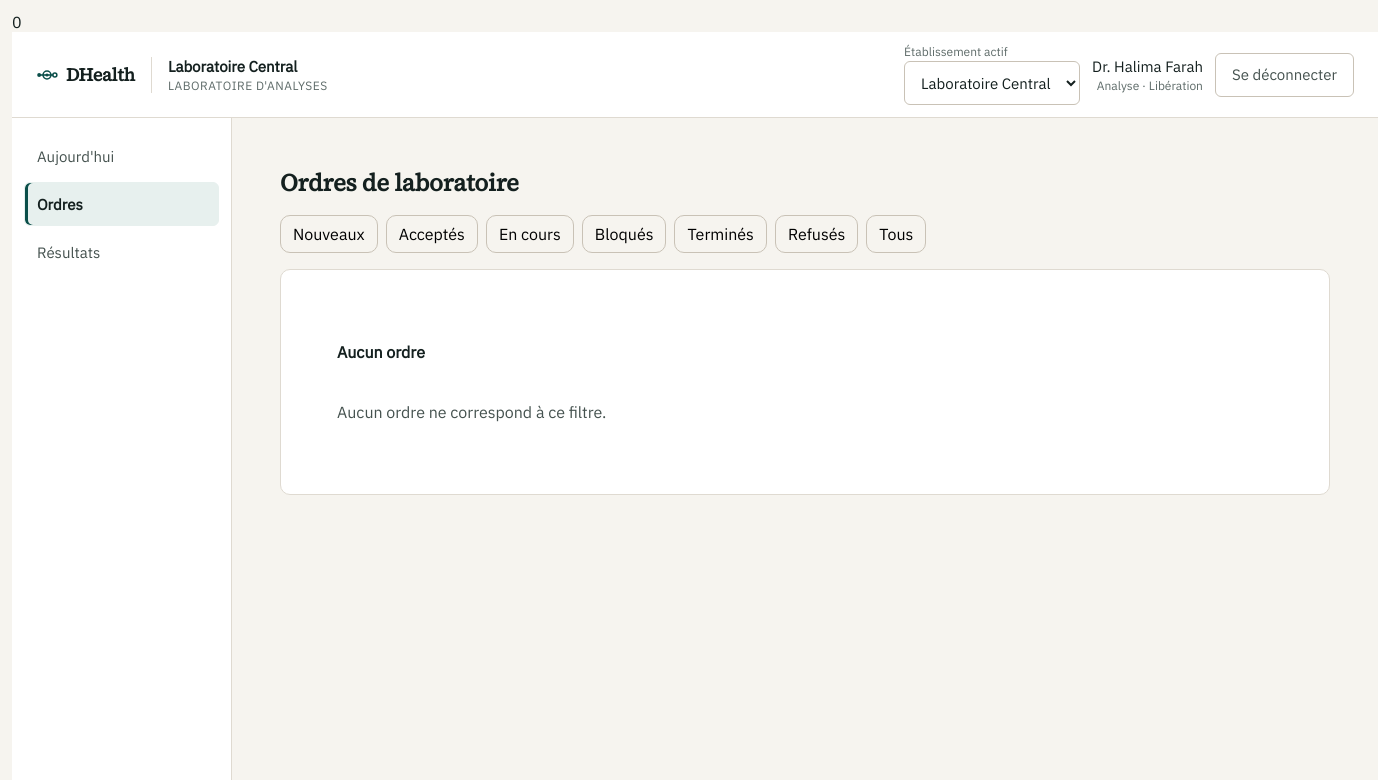
Test case: changing establishment › OS4: counts each switch exactly once
Expected: the text with test id "generation" reads "0", [12,12,22,32]
Step 1. Select "Laboratoire Nord" in the dropdown labelled "Établissement actif" → (992, 83), box [904,61,1080,105]
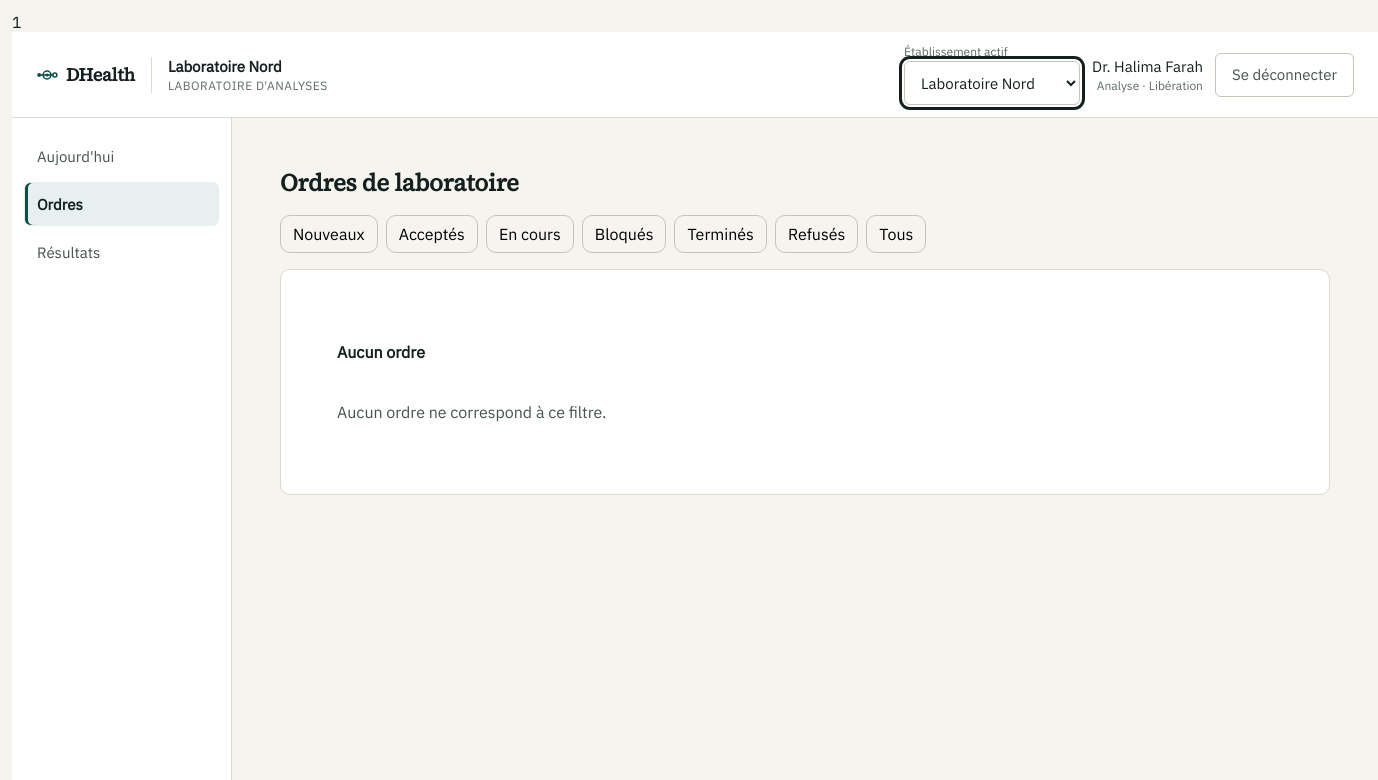
Result: the text with test id "generation" reads "1" at [12,12,22,32]
Step 2. Select "Laboratoire Central" in the dropdown labelled "Établissement actif" → (992, 83), box [904,61,1080,105]
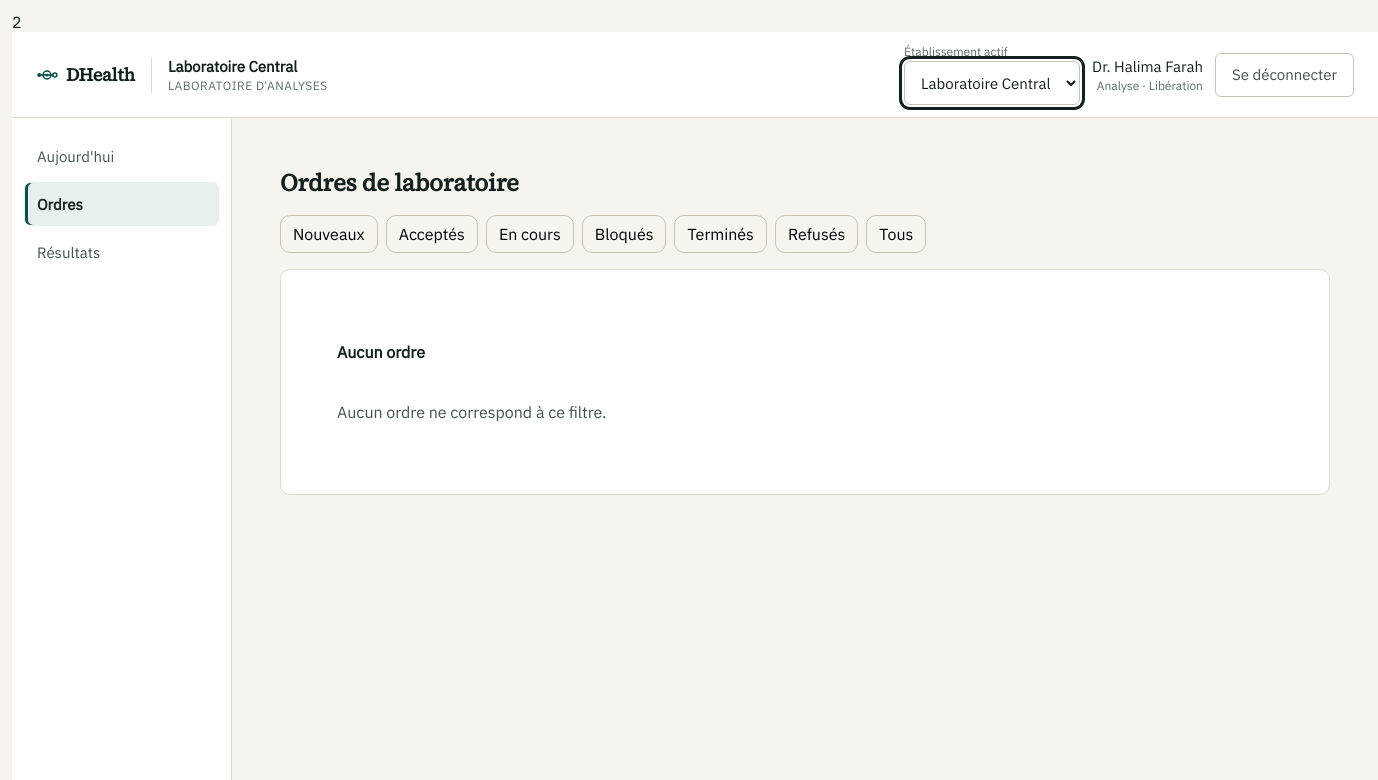
Result: the text with test id "generation" reads "2" at [12,12,22,32]
